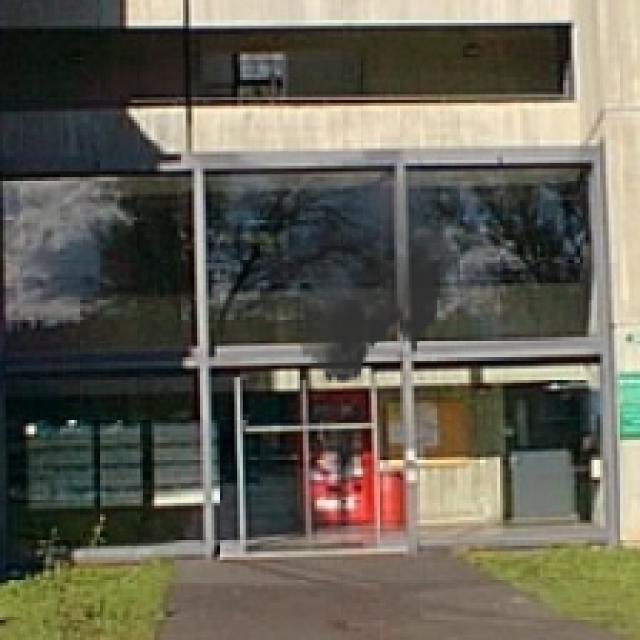Smoke: (254, 146, 457, 394)
